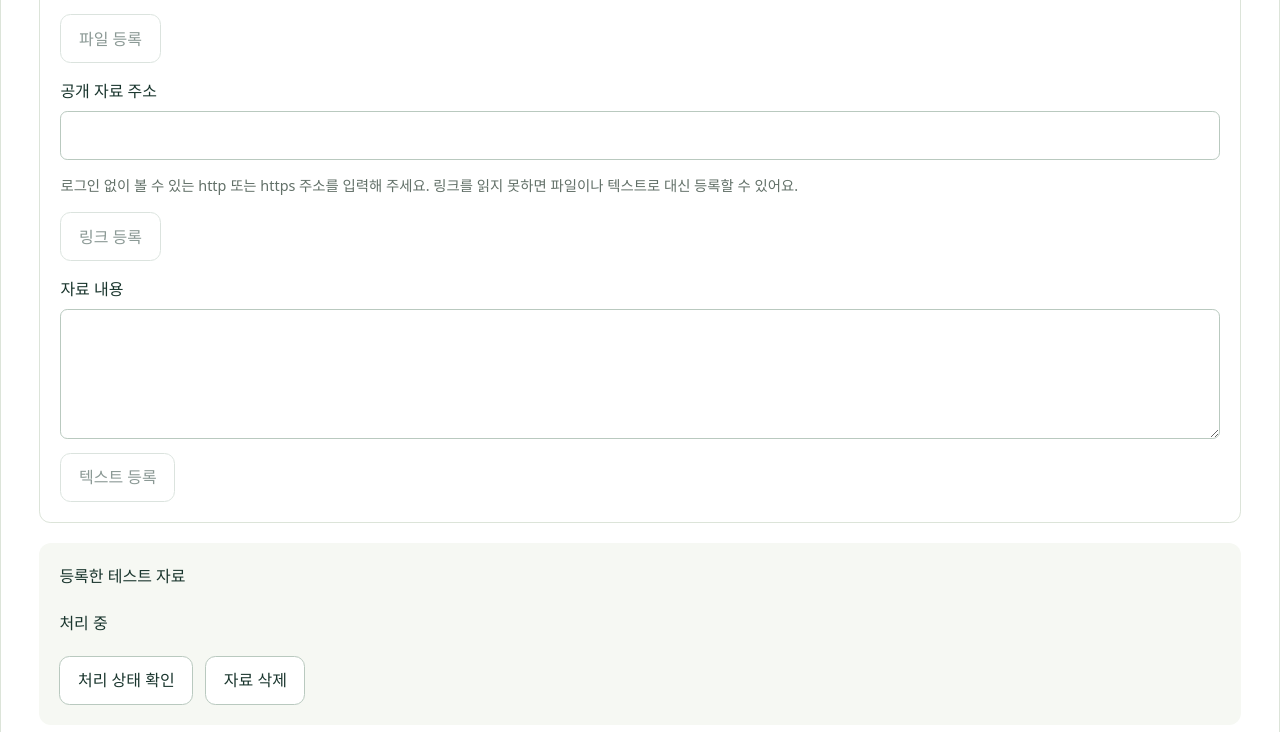
Scenario: 문서 job 실패 후 같은 화면에서 실패 이유와 다시 처리 버튼을 표시한다
(page scrolled)
Click the button "처리 상태 확인": (126, 681) [59,656,193,705]
(page scrolled)
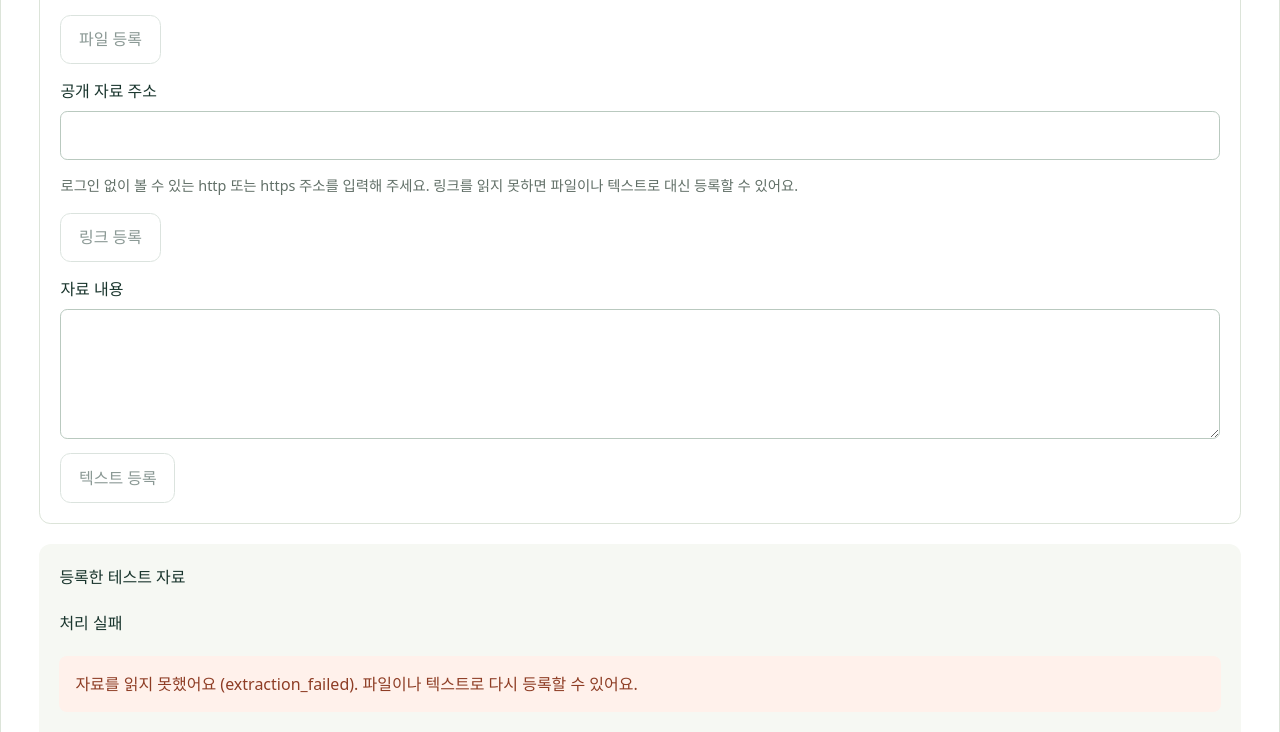
Check: the text "자료를 읽지 못했어요 (extraction_failed). 파일이나 텍스트로 다시 등록할 수 있어요." is shown, box [59,656,1221,712]
